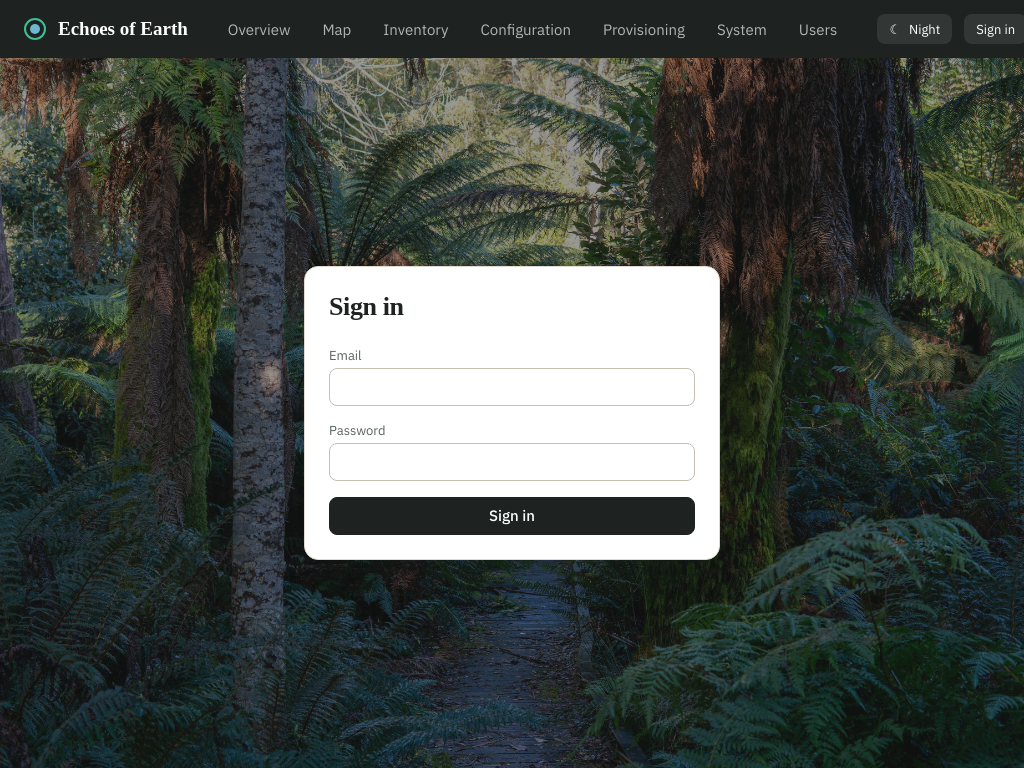
totp at login › reveals the code field when the server requires TOTP, then submits it
Type "owner@example.com" into the field labelled "Email".
click(512, 387); type("owner@example.com")  # box x1=329 y1=368 x2=695 y2=406
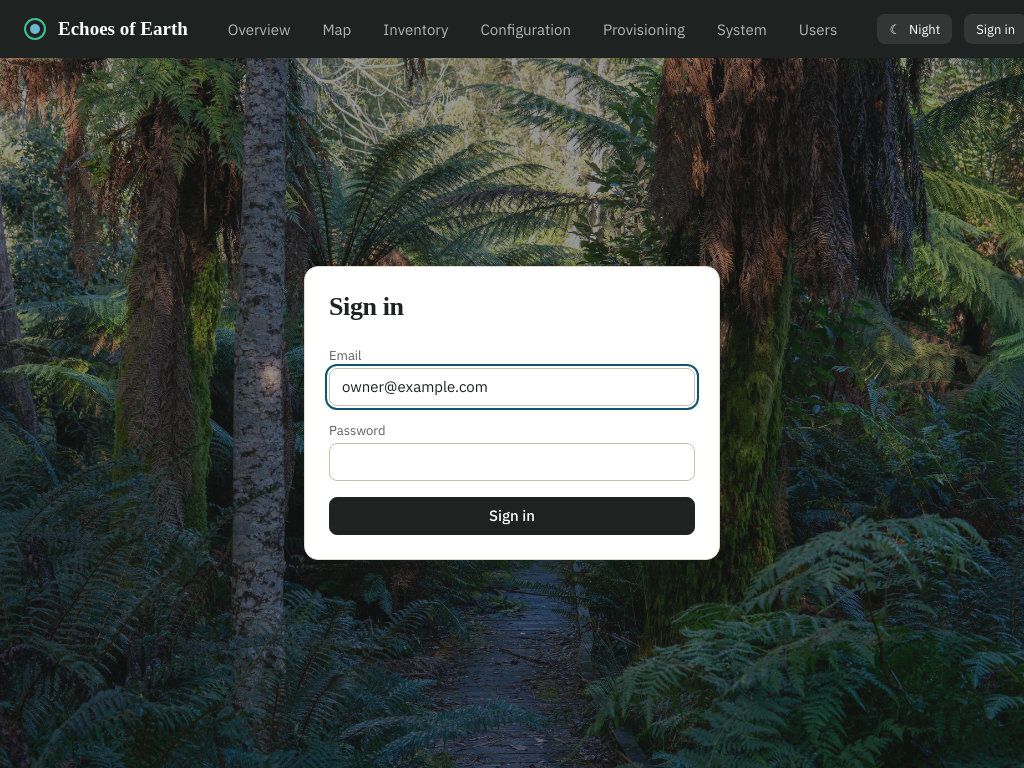
Type "irrelevant-fixture-value" into the password field labelled "Password".
click(512, 462); type("irrelevant-fixture-value")  # box x1=329 y1=443 x2=695 y2=481
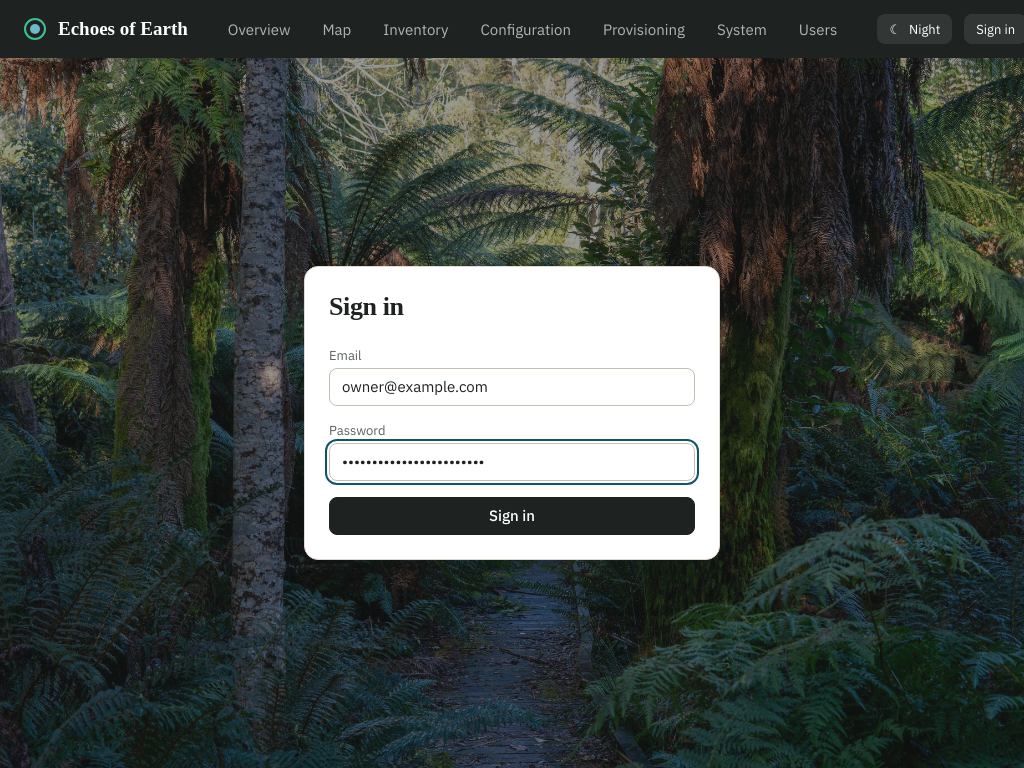
Click the button "Sign in".
click(512, 516)  # box x1=329 y1=497 x2=695 y2=535
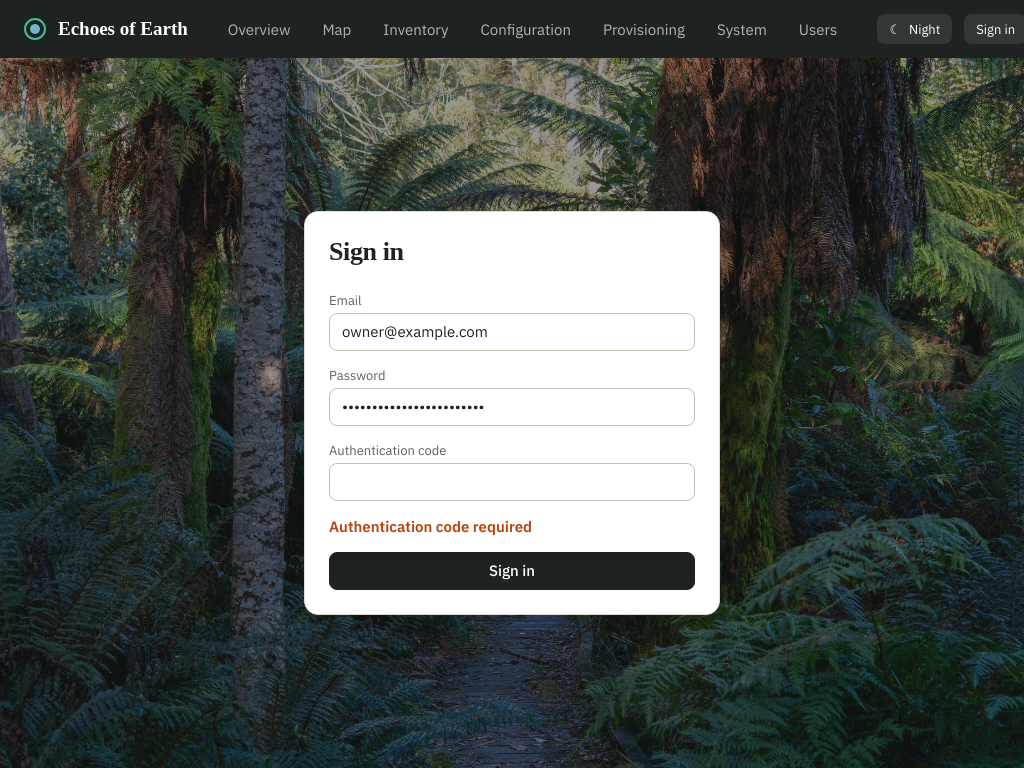
Type "123456" into the field with test id "totp-input".
click(512, 482); type("123456")  # box x1=329 y1=463 x2=695 y2=501
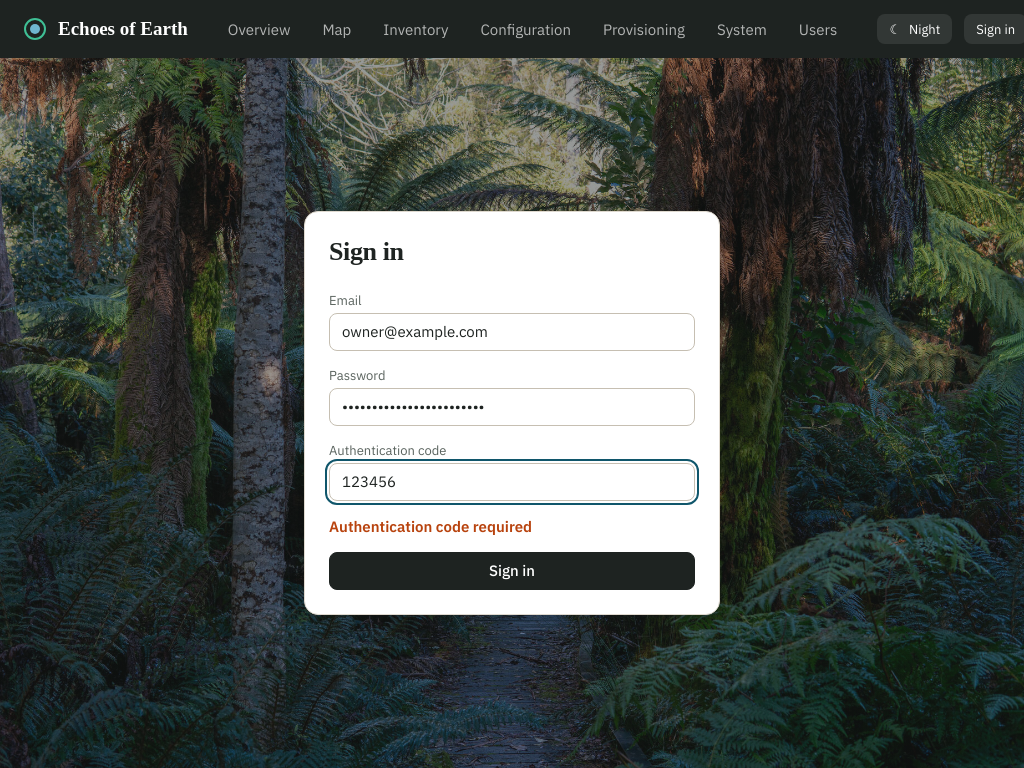
Click the button "Sign in".
click(512, 571)  # box x1=329 y1=552 x2=695 y2=590
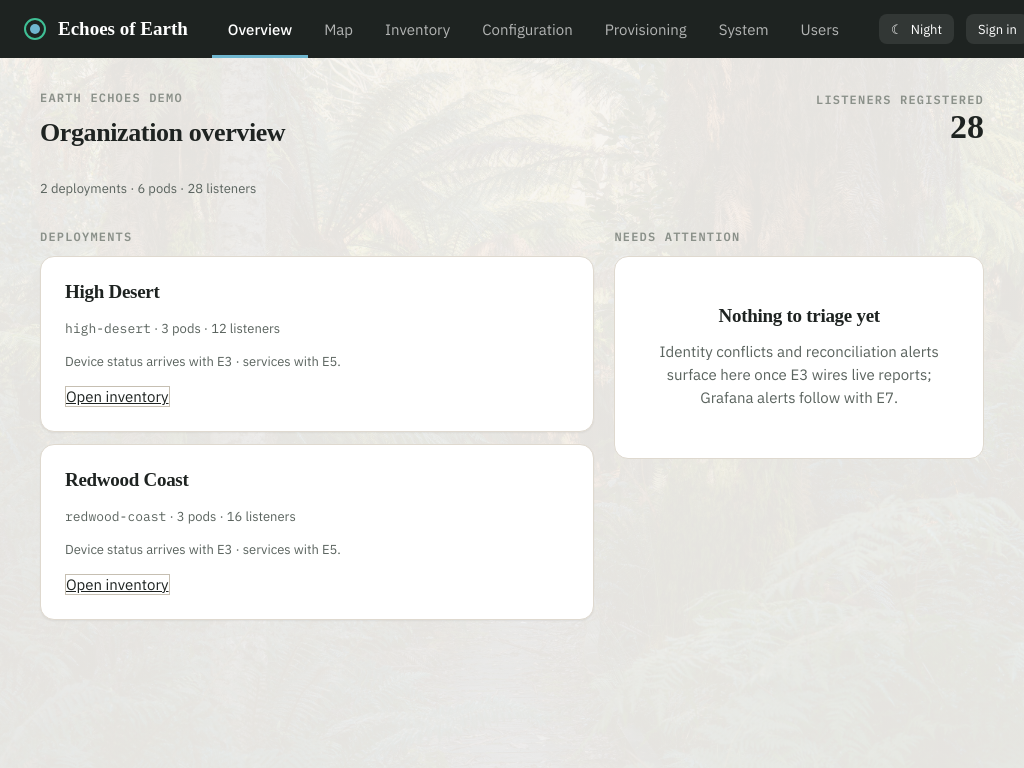
Result: the heading "Organization overview" is shown at x1=40 y1=117 x2=285 y2=148
